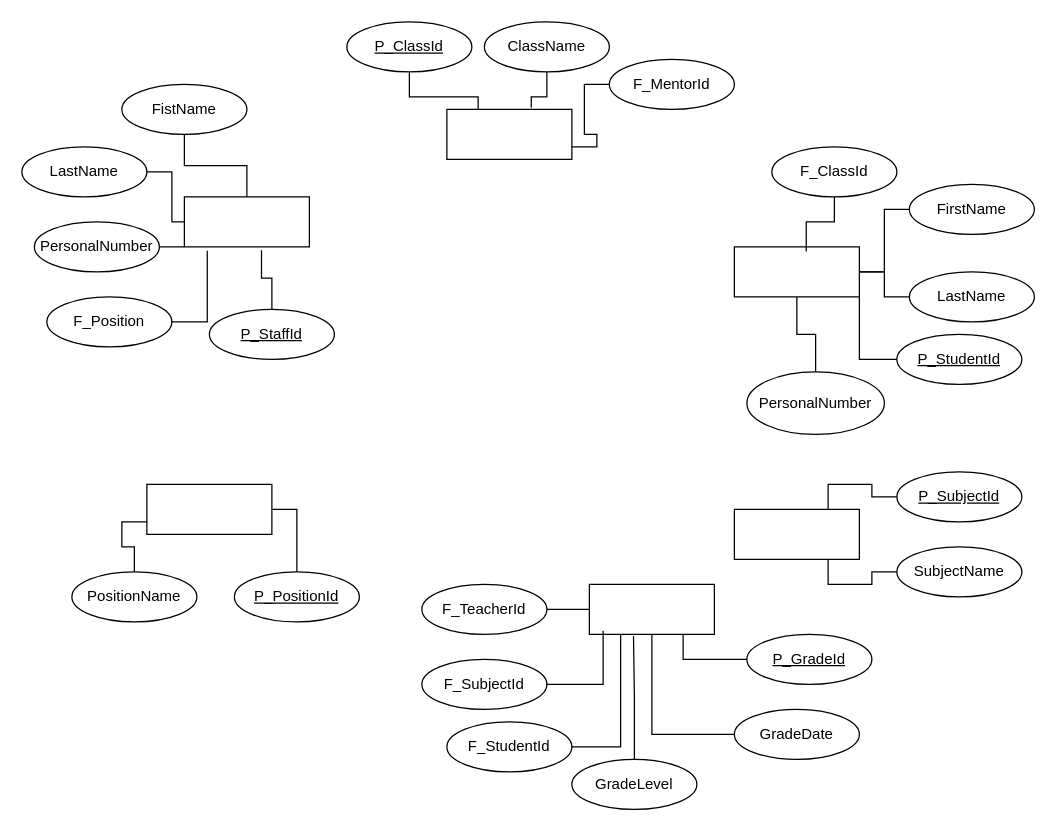
Image size: 1056x831. Some labels were removed from this diagram. The box of each missing label's shape, as (x1, y1, x2, y2) in pixels:
Classes: (446, 108, 572, 159)
Grades: (588, 583, 714, 634)
Positions: (146, 483, 272, 534)
Staff: (183, 196, 309, 247)
Students: (733, 246, 859, 297)
Subject: (733, 508, 859, 559)
